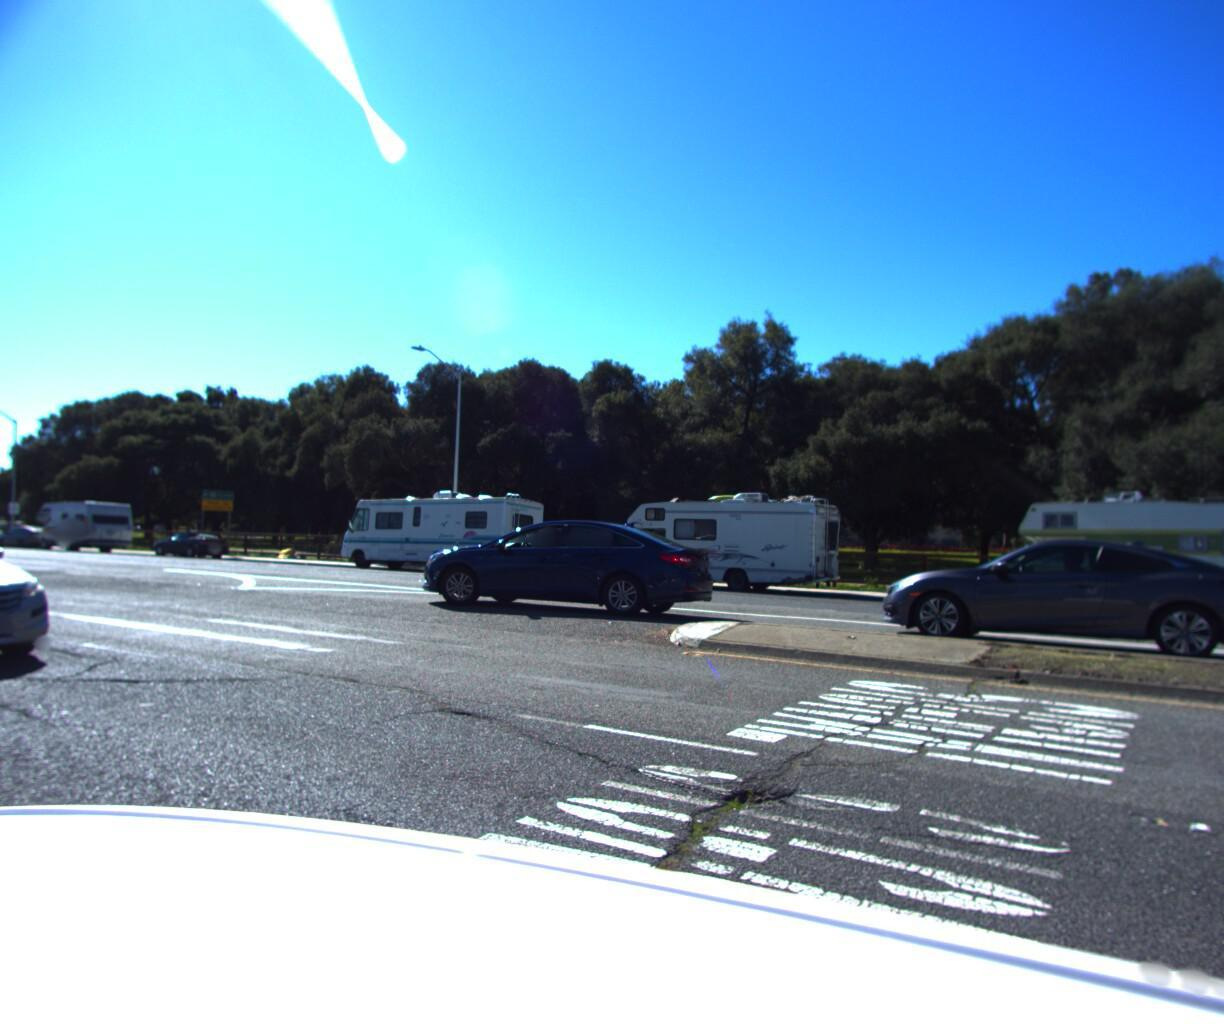car: (895, 537, 1224, 677), (389, 517, 712, 622), (0, 508, 90, 694), (143, 531, 238, 565), (0, 527, 59, 556), (0, 527, 11, 550)
other_vehicle: (995, 478, 1224, 627), (604, 483, 852, 600), (330, 487, 554, 584), (29, 502, 142, 558)
